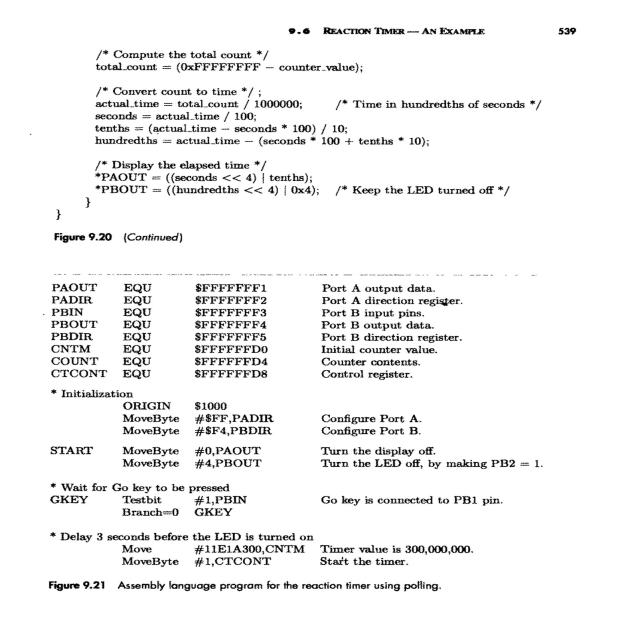diagram: (14, 12, 640, 612)
